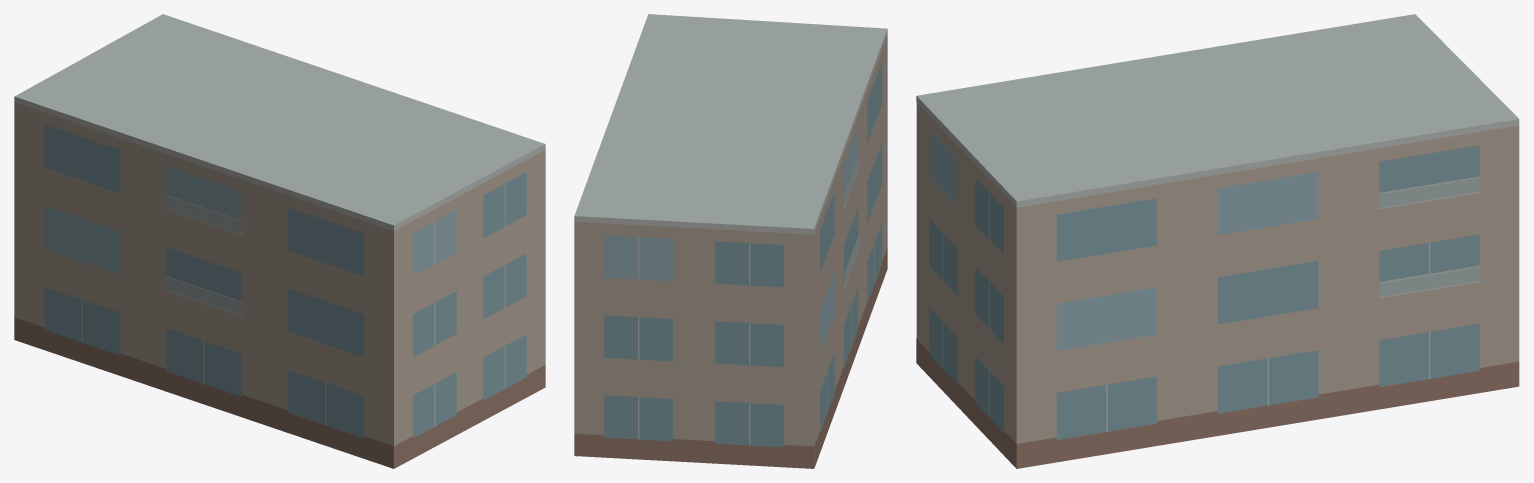
Rendered from survey-upis-32848096.glb.
3 renders of one model, left to right at view 1: azimuth 30°, elevation 25°; view 2: azimuth 150°, elevation 25°; view 3: azimuth 270°, elevation 25°, orthographic. The views are drawn at different scales.
Visible parts, largest first — view 1: survey-upis-32848096.tmp; view 2: survey-upis-32848096.tmp; view 3: survey-upis-32848096.tmp.
Boxes of the visible parts, box(x1,y1,x2,y2) form: survey-upis-32848096.tmp: box(14, 14, 545, 468); survey-upis-32848096.tmp: box(574, 14, 887, 468); survey-upis-32848096.tmp: box(916, 14, 1519, 468).
Bounding box in the file's own units: 15.49 × 10.3 × 21.05.
